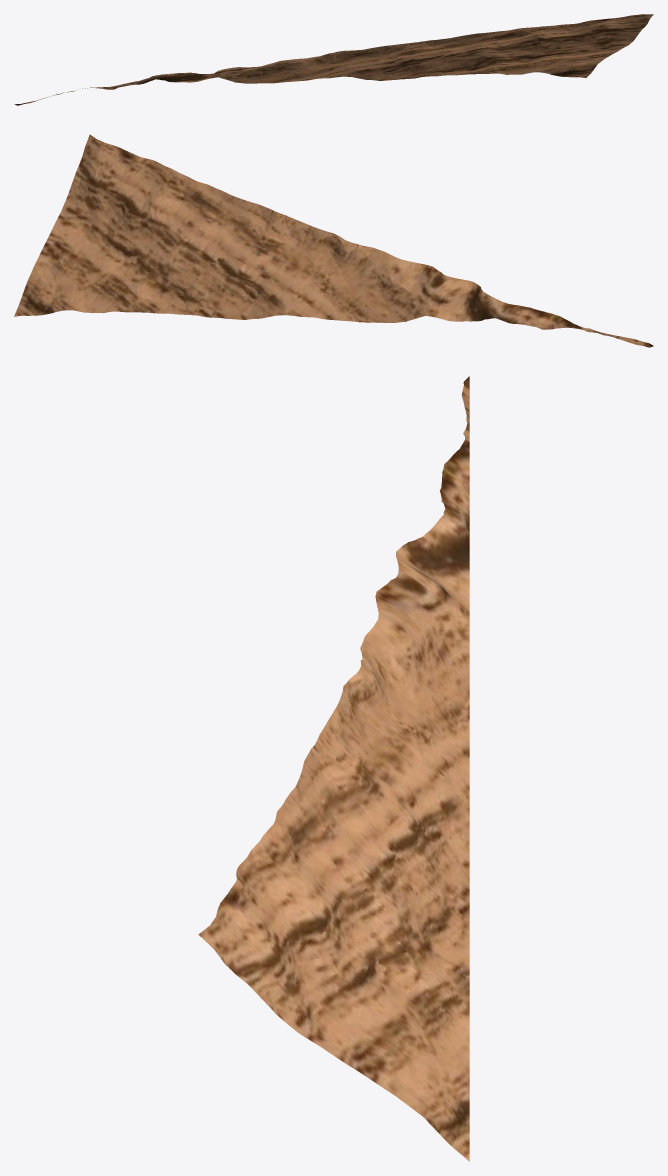
3 views of the same model, one above another, from view 1: azimuth 30°, elevation 25°; view 2: azimuth 150°, elevation 25°; view 3: azimuth 270°, elevation 25° (orthographic). The views are drawn at different scales.
Bounding box in the file's own units: 1.02 × 0.1937 × 0.2094.
Materials: 1 (1 with a texture image).
